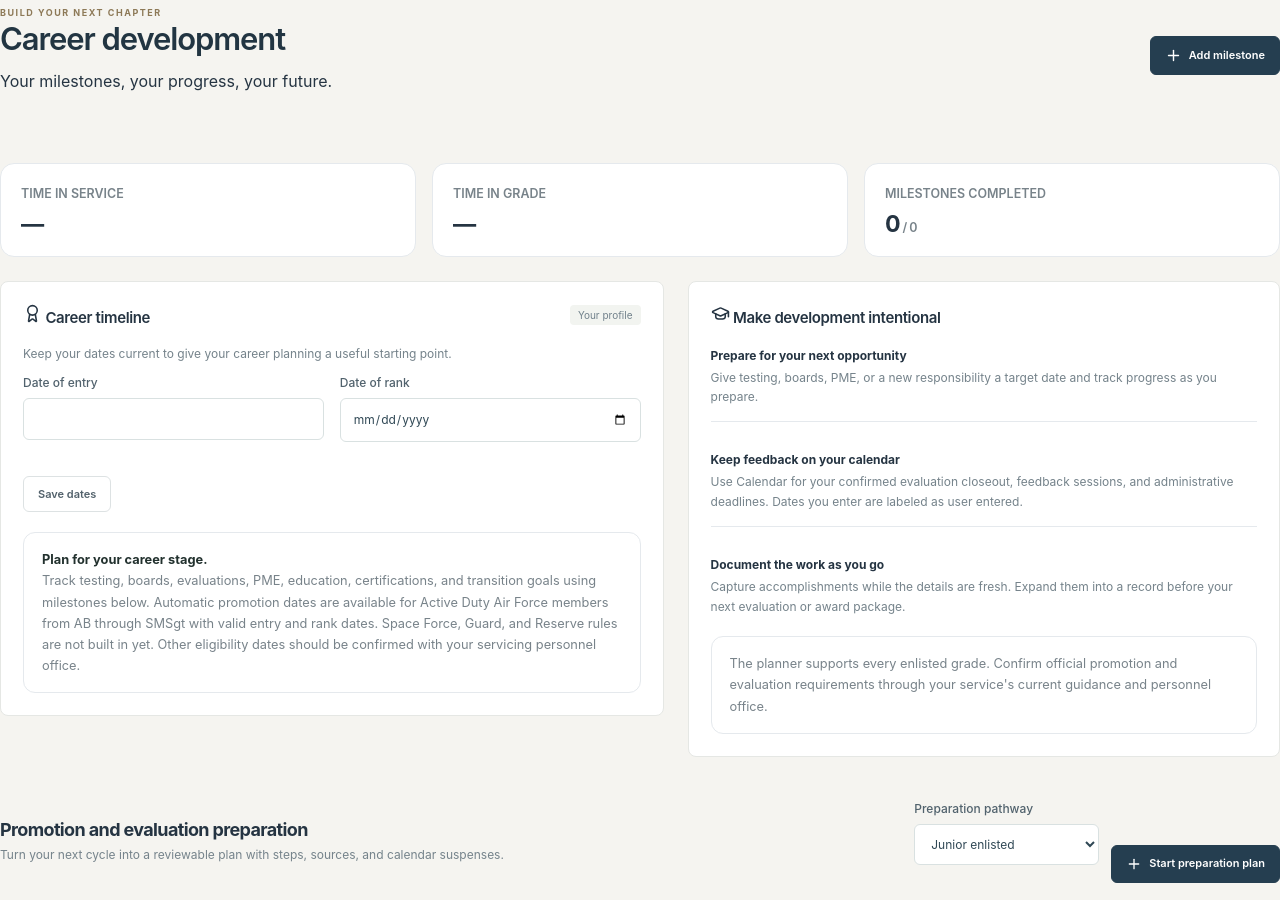
Test: professional date validation › blocks out-of-range profile and milestone dates even when native form validation is bypassed
The image size is (1280, 900).
Type "10000-01-01" into the field labelled "Date of entry" at (173, 419), box [23, 398, 324, 440]
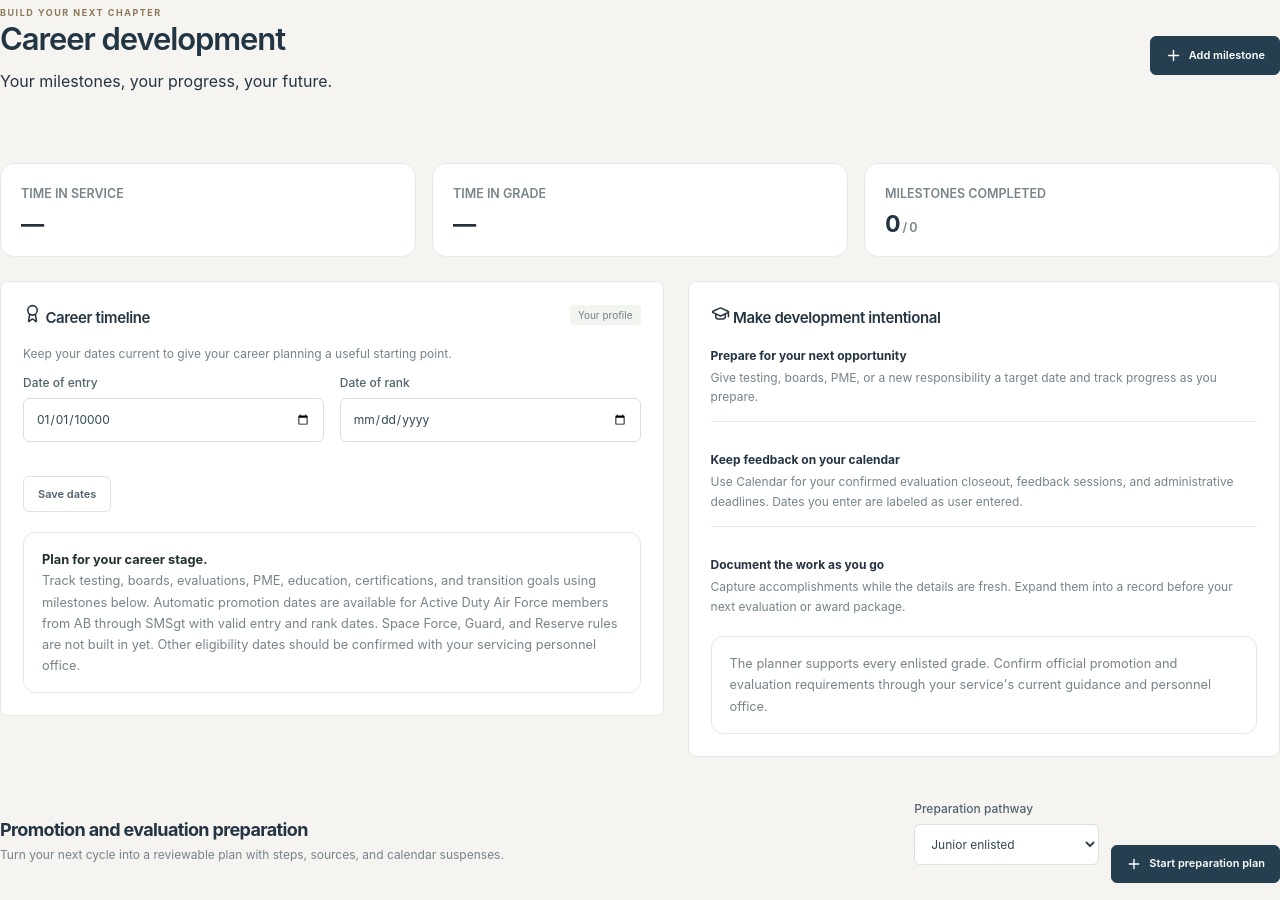
Submit the form labelled "Date of entry", box [23, 375, 640, 512]
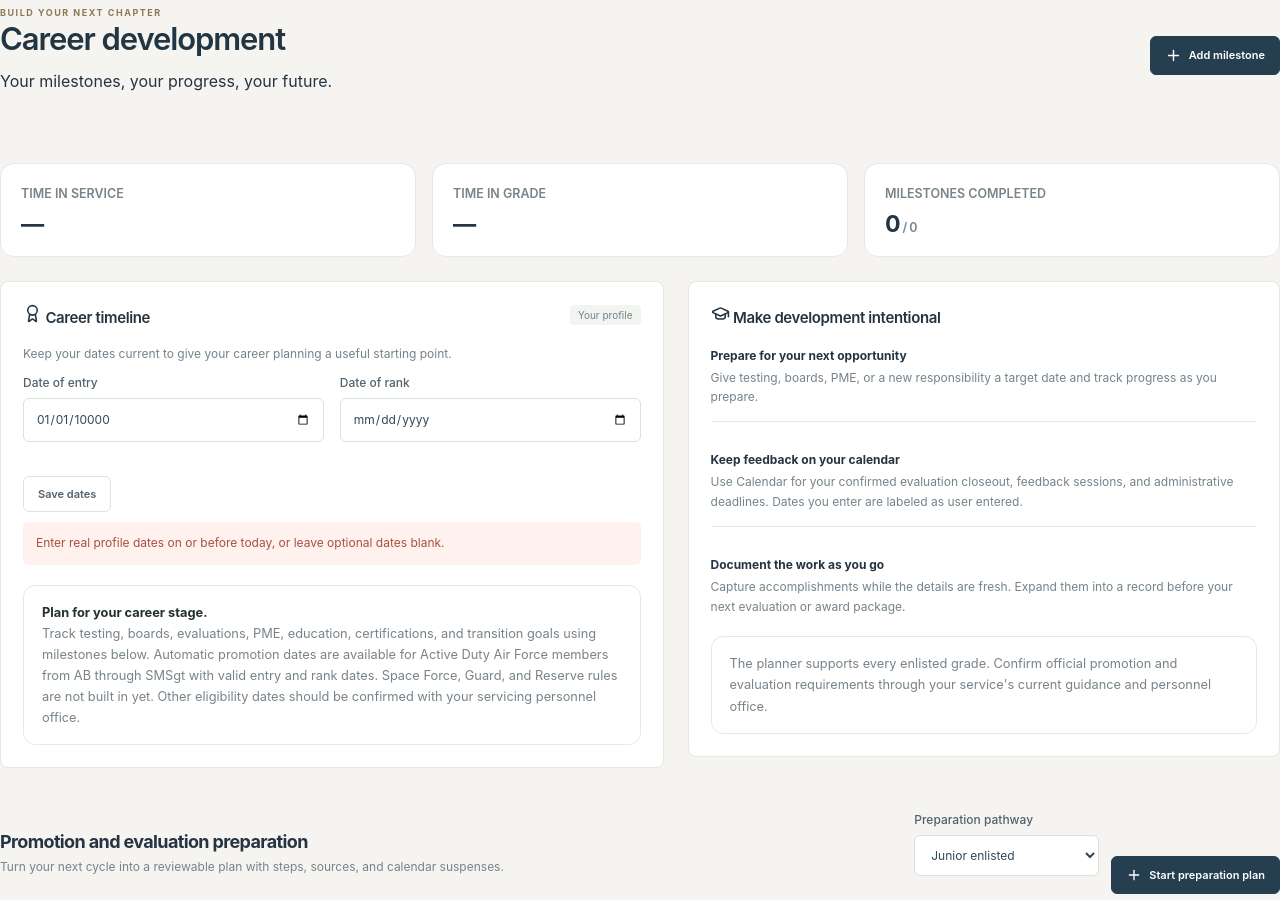
Result: the message shows "real profile dates" at [36, 535, 444, 550]
Click the button "Add milestone" at (1215, 55), box [1150, 36, 1279, 75]
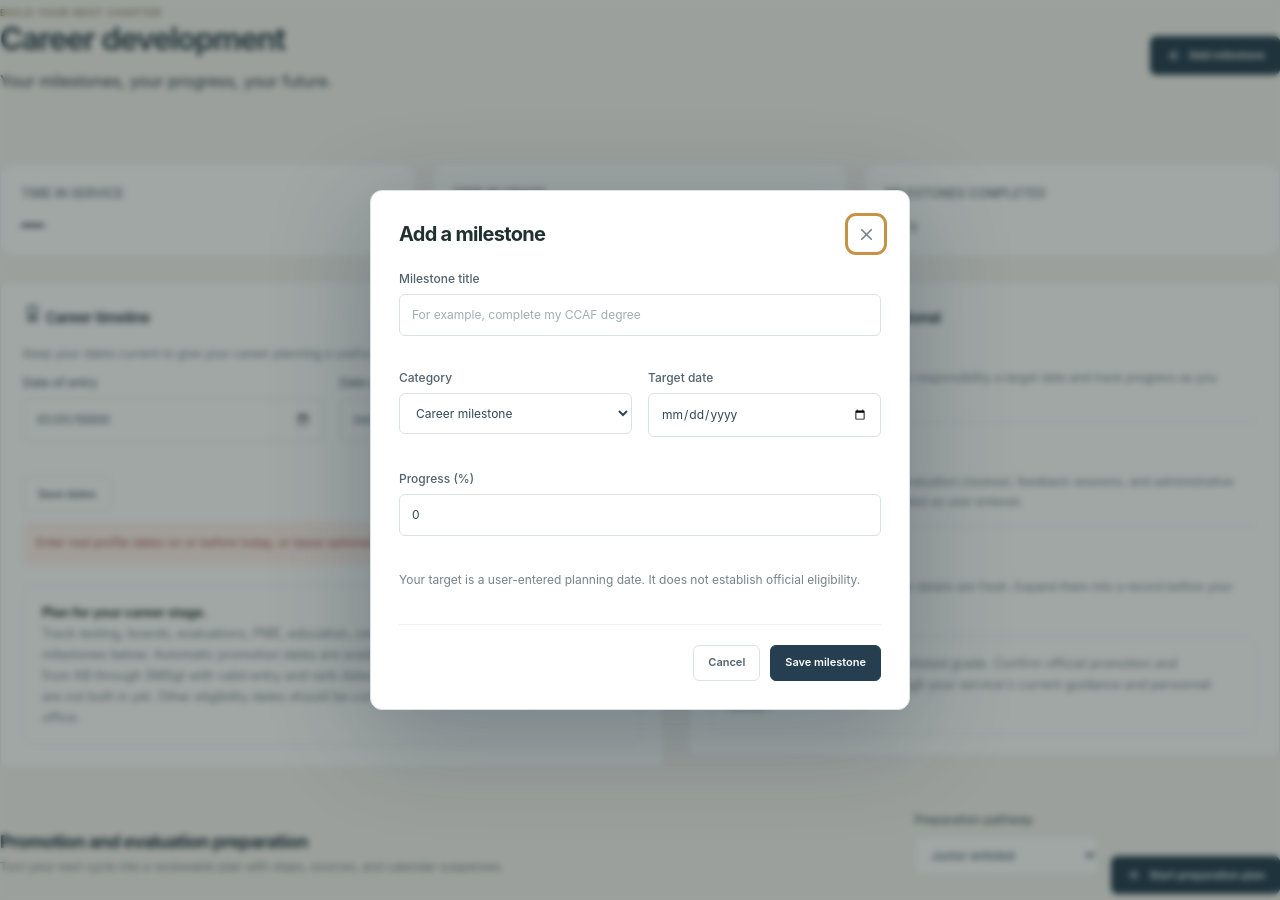
Type "Course" into the field labelled "Milestone title" at (640, 315), box [399, 294, 881, 336]
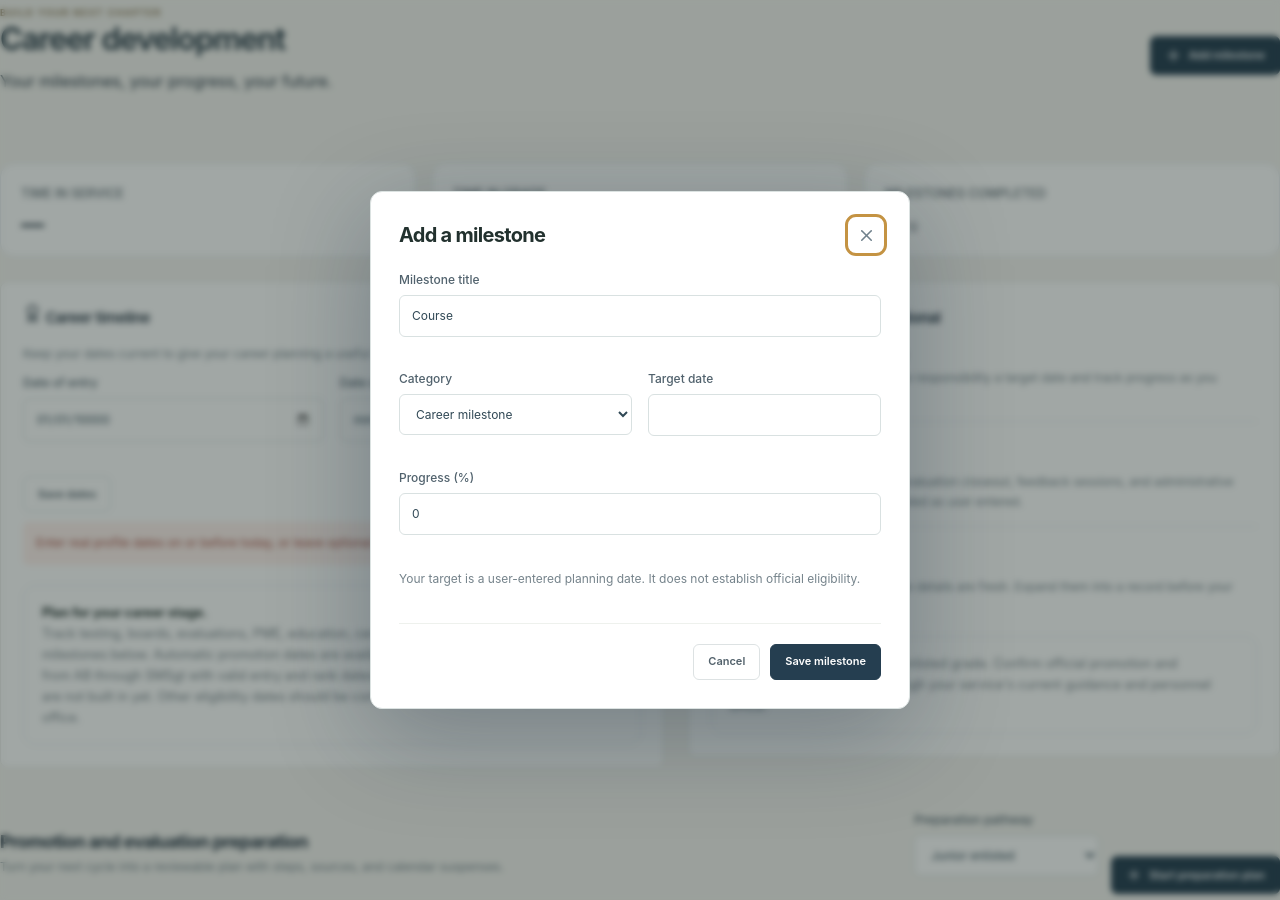
Type "10000-01-01" into the field labelled "Target date" at (764, 415), box [648, 394, 881, 436]
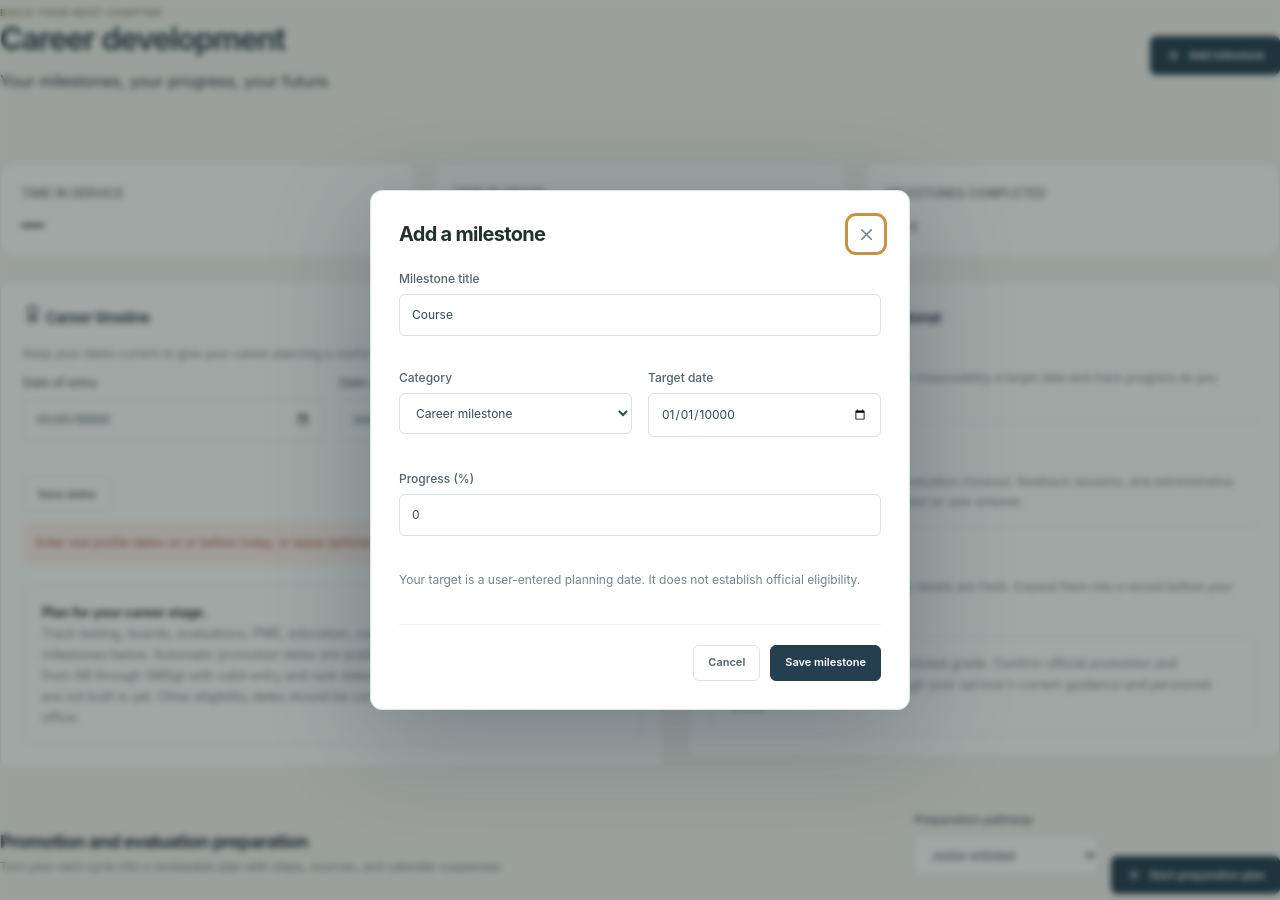
Submit the form labelled "Target date", box [399, 271, 881, 681]
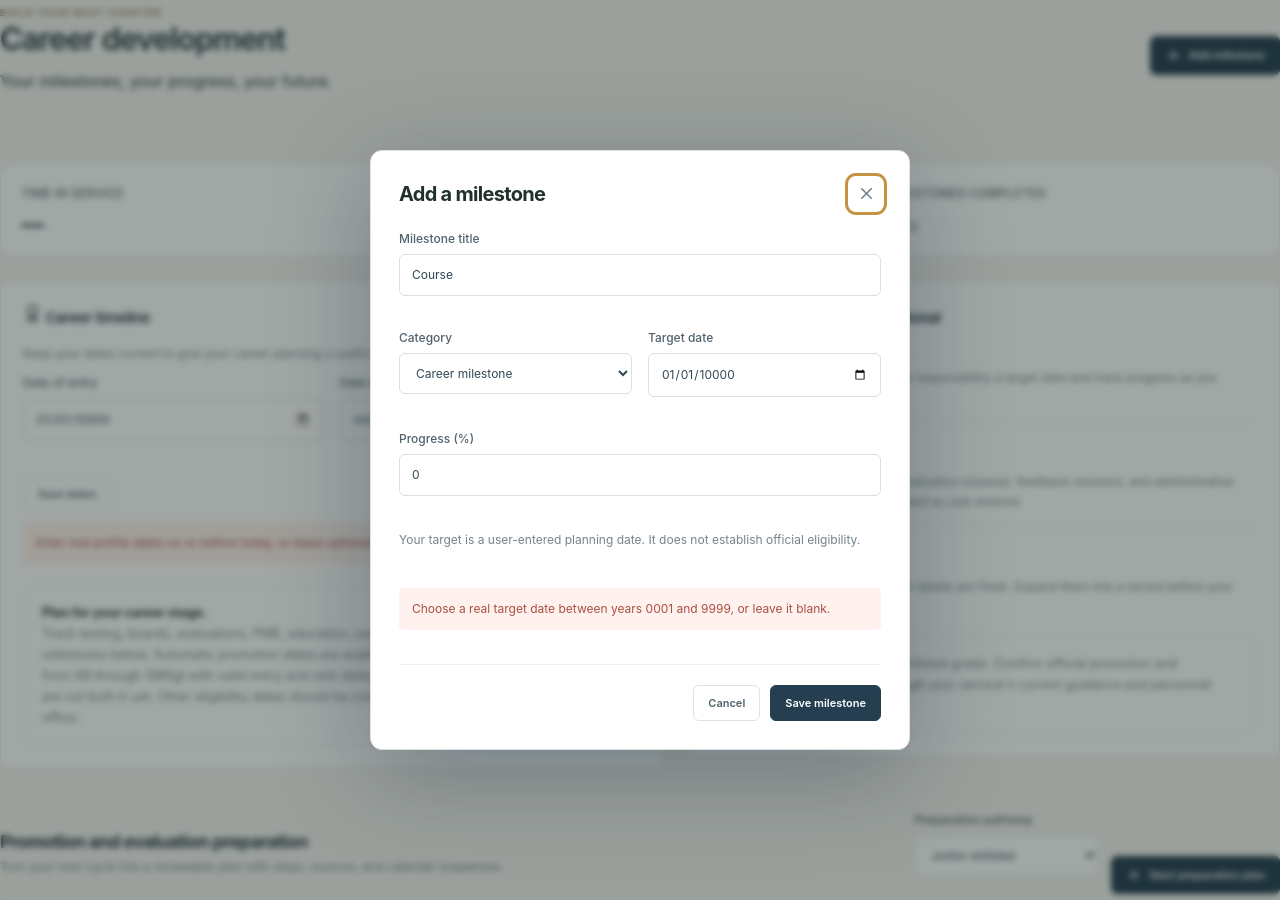
Result: the message shows "real target date" at [412, 601, 830, 616]
